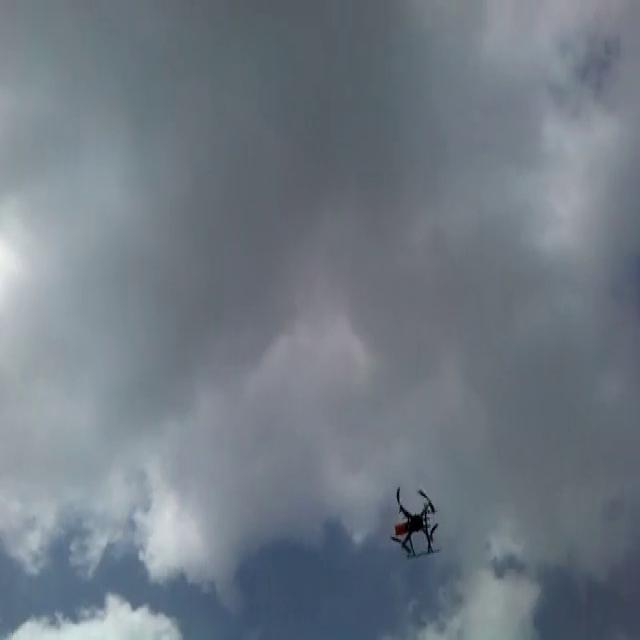drone: (389, 482, 441, 567)
